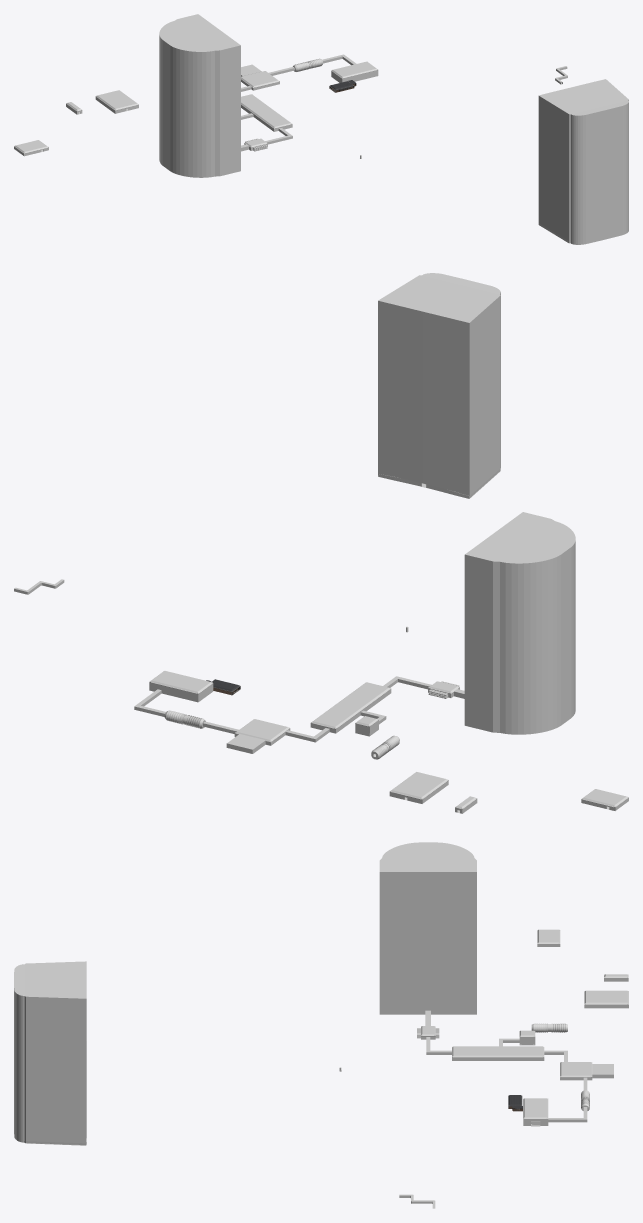
3 views of the same model, one above another, from view 1: azimuth 30°, elevation 25°; view 2: azimuth 150°, elevation 25°; view 3: azimuth 270°, elevation 25° (orthographic). The views are drawn at different scales.
Visible parts, largest first — view 1: Walls, Tall Room, experiment room, cafeteria, cybernetics room, Template Room.001, Template Room.006; view 2: Walls, Tall Room, experiment room, cybernetics room, cafeteria, Template Room.001; view 3: Tall Room, Walls, experiment room, cybernetics room, Template Room.001, cafeteria.
Part boxes in pixels (box(x1,y1,x2,y2)): Walls: box(538, 79, 628, 244); Tall Room: box(159, 14, 240, 177); experiment room: box(241, 94, 292, 131); cafeteria: box(331, 61, 378, 82); cybernetics room: box(241, 64, 279, 90); Template Room.001: box(95, 90, 138, 113); Template Room.006: box(14, 140, 48, 156); Walls: box(378, 273, 500, 498); Tall Room: box(464, 512, 575, 734); experiment room: box(310, 682, 391, 733); cybernetics room: box(226, 719, 290, 753); cafeteria: box(149, 671, 213, 702); Template Room.001: box(389, 772, 448, 803); Tall Room: box(379, 842, 476, 1014); Walls: box(14, 961, 86, 1145); experiment room: box(452, 1046, 544, 1060); cybernetics room: box(560, 1062, 613, 1080); Template Room.001: box(584, 990, 628, 1008); cafeteria: box(523, 1098, 548, 1126).
Size of the model in its own units: 70254 by 17802 by 66291.
